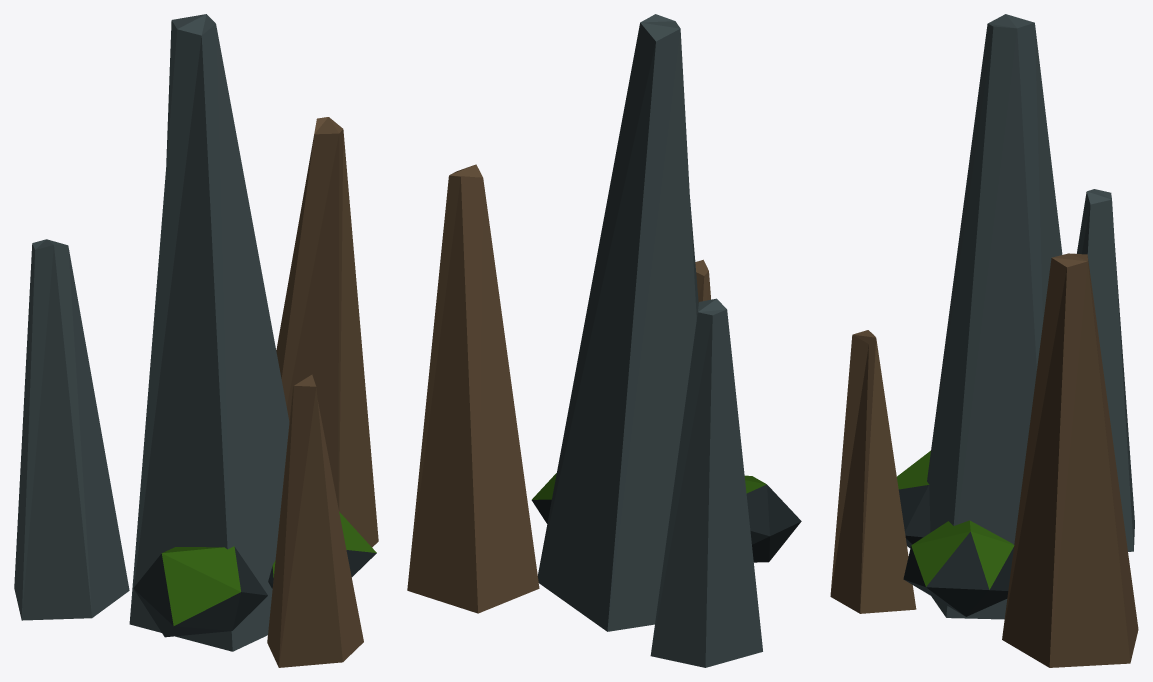
File: world_rocks_spires.fbx
The picture shows the model from 3 angles, left to right: view 1: azimuth 30°, elevation 25°; view 2: azimuth 150°, elevation 25°; view 3: azimuth 270°, elevation 25°; orthographic projection. The views are drawn at different scales.
Parts seen in each view (by area): view 1: world_rocks_spires; view 2: world_rocks_spires; view 3: world_rocks_spires.
Boxes of the visible parts, x1,y1,x2,y2 form: world_rocks_spires: [14, 14, 378, 667]; world_rocks_spires: [407, 14, 801, 667]; world_rocks_spires: [830, 14, 1138, 667].
Bounding box in the file's own units: 866 × 1423 × 710.
